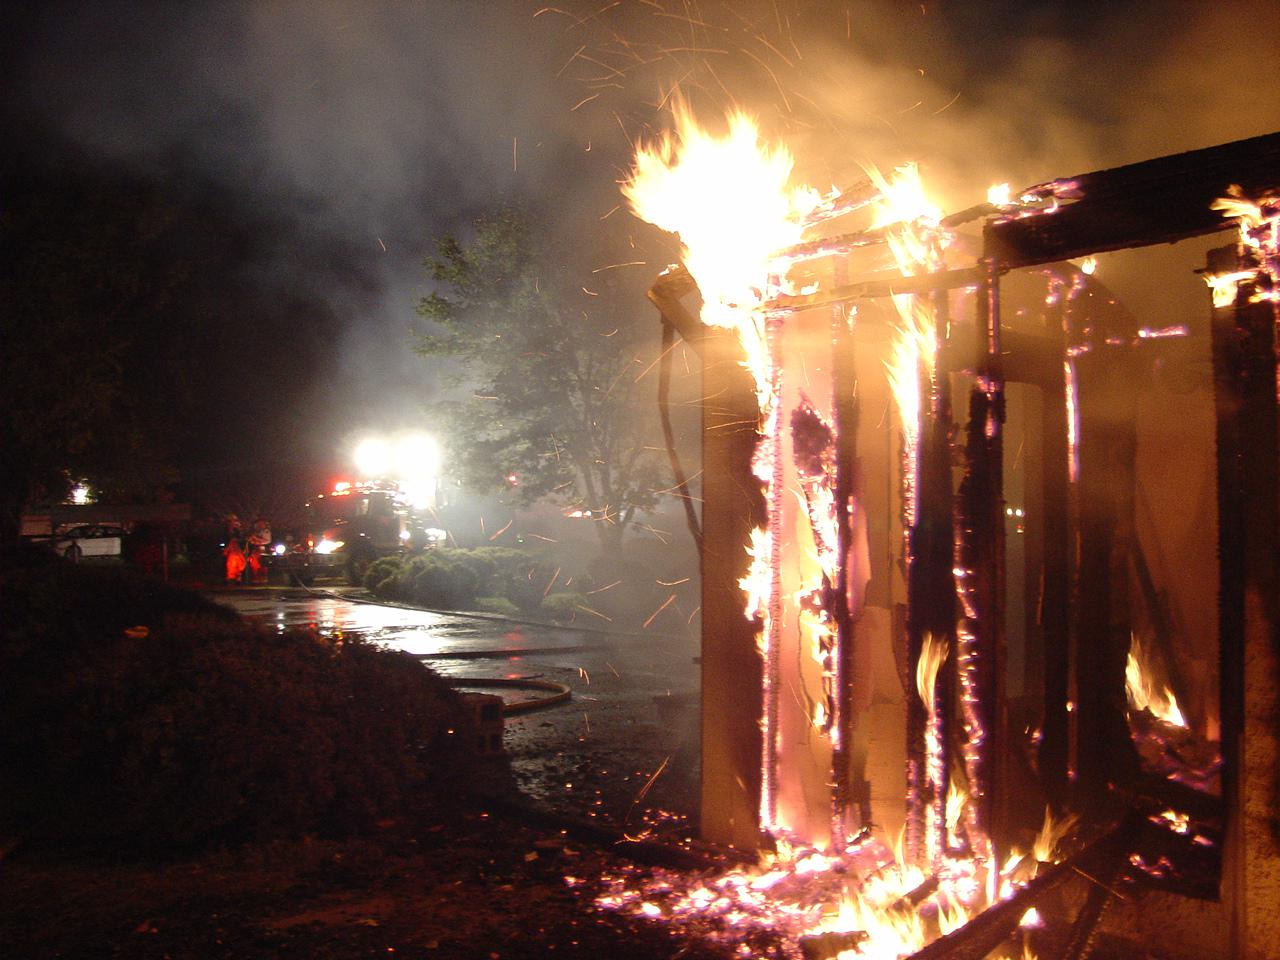fire: (622, 91, 1083, 956), (1179, 176, 1280, 321), (1111, 636, 1205, 758)
